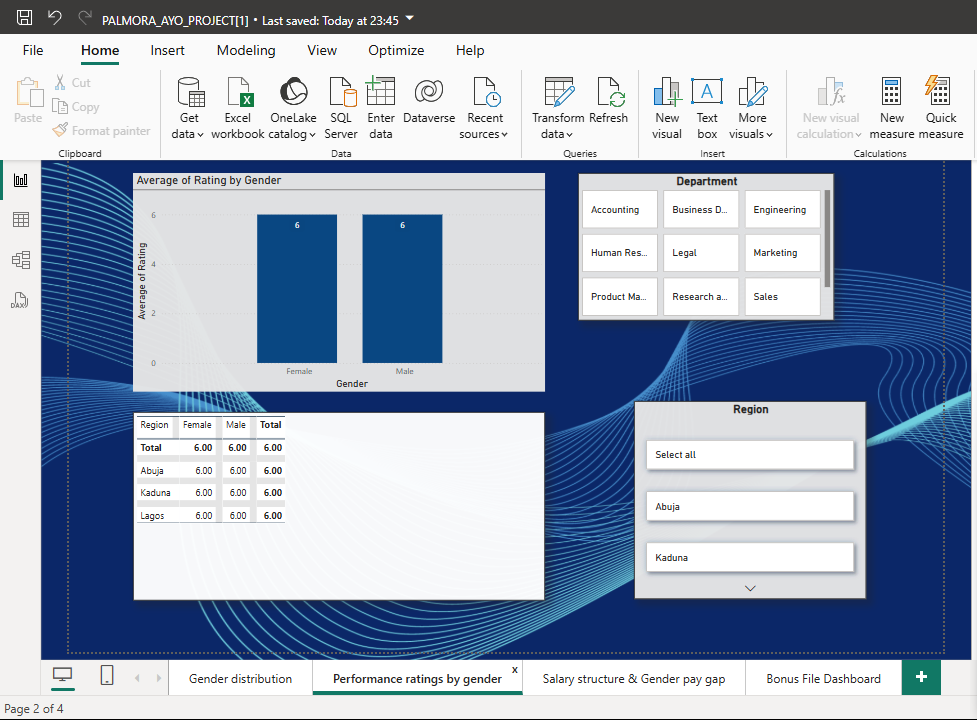

What the dashboard file says about the page in this screenshot:
{"tool":"powerbi","page":{"name":"Performance ratings by gender","canvas":[1280,720],"ordinal":1},"visuals":[{"type":"clusteredColumnChart","fields":{"Category":["Palmoria Group.Gender"],"Y":["Palmoria Group.Rating"]},"box":[94.3,18.5,603,320],"z":0},{"type":"pivotTable","fields":{"Rows":["Palmoria Group.Region"],"Columns":["Palmoria Group.Gender"],"Values":["Palmoria Group.Count of Rating average per Gender"]},"box":[94.3,368.1,603,275.6],"z":1000},{"type":"advancedSlicerVisual","fields":{"Values":["Palmoria Group.Department"]},"box":[745.4,18.5,375.5,216.4],"z":2000},{"type":"advancedSlicerVisual","fields":{"Values":["Palmoria Group.Region"]},"box":[826.8,353.3,340.3,290.4],"z":3000}]}

Visuals, with their boxes on the page's 1280x720 design canvas (x1, y1, x2, y2). These are canvas units, not pixel positions in the 977x720 screenshot, which may show the page scaled, cropped or inside an application window:
clusteredColumnChart - Palmoria Group.Gender x Palmoria Group.Rating: bbox(94, 18, 697, 338)
pivotTable - Palmoria Group.Region x Palmoria Group.Gender: bbox(94, 368, 697, 644)
advancedSlicerVisual - Palmoria Group.Department: bbox(745, 18, 1121, 235)
advancedSlicerVisual - Palmoria Group.Region: bbox(827, 353, 1167, 644)
